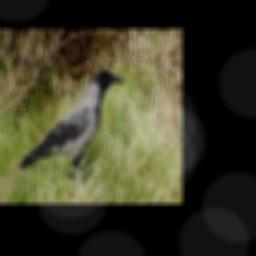Crow: (18, 71, 126, 179)
